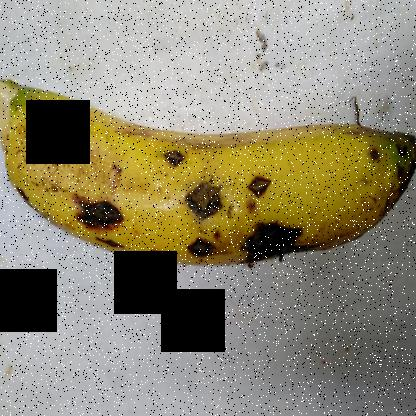ripe: (1, 70, 415, 297)
rotten: (234, 205, 304, 282), (65, 164, 124, 248), (184, 160, 231, 224), (160, 124, 200, 182), (234, 156, 276, 208), (37, 114, 84, 154), (183, 230, 210, 275)
